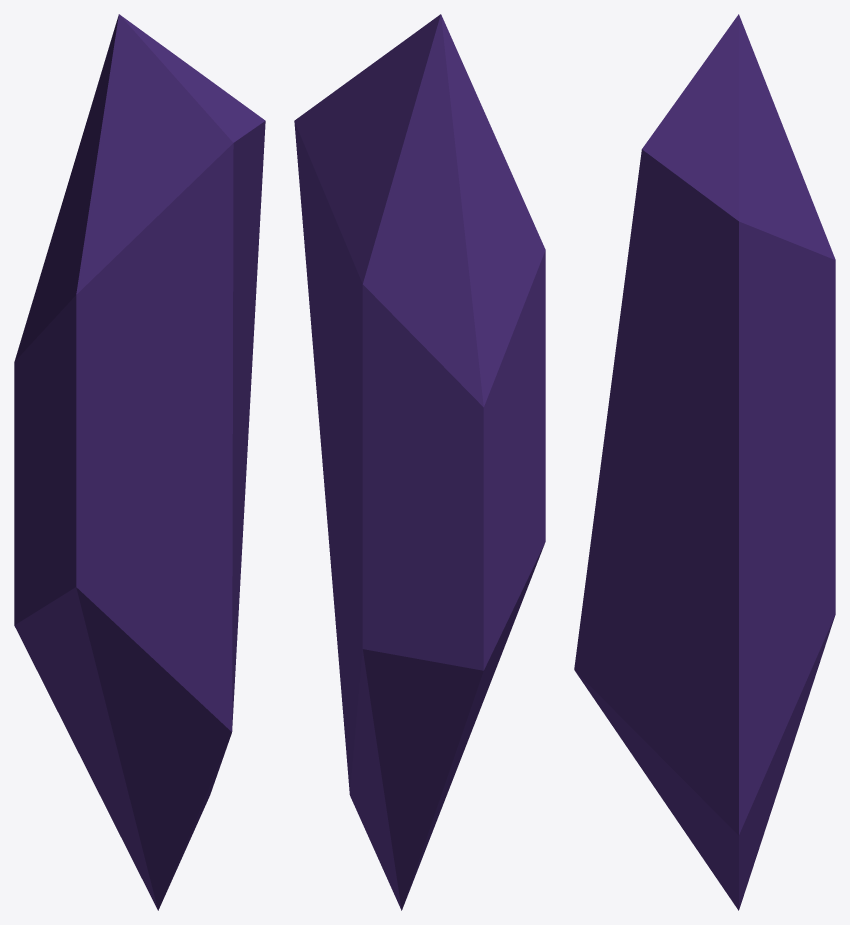
The model's file is Crystal_Pointu_1.FBX.
3 views of the same model, side by side, from view 1: azimuth 30°, elevation 25°; view 2: azimuth 150°, elevation 25°; view 3: azimuth 270°, elevation 25° (orthographic). The views are drawn at different scales.
Parts seen in each view (by area): view 1: Spindle004; view 2: Spindle004; view 3: Spindle004.
Part boxes in pixels (x1,y1,x2,y2): Spindle004: (14,14,265,910); Spindle004: (294,14,545,910); Spindle004: (574,14,835,910).
Size of the model in its own units: 48.76 by 192 by 51.74.
